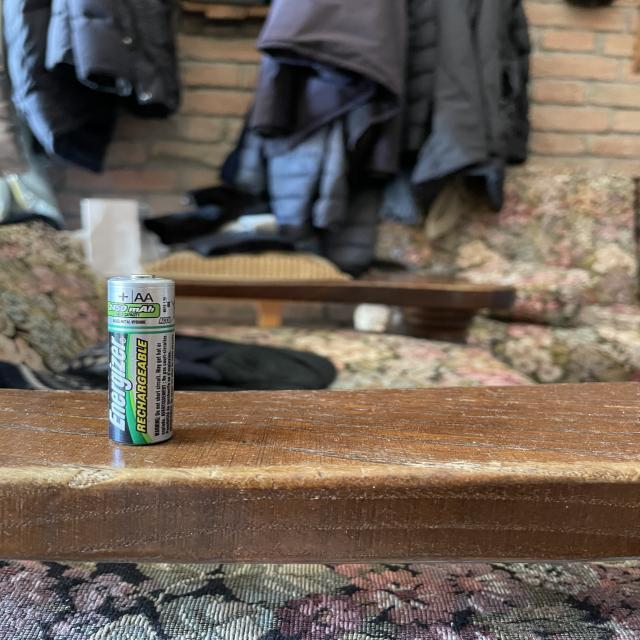Hazard: (104, 270, 179, 449)
